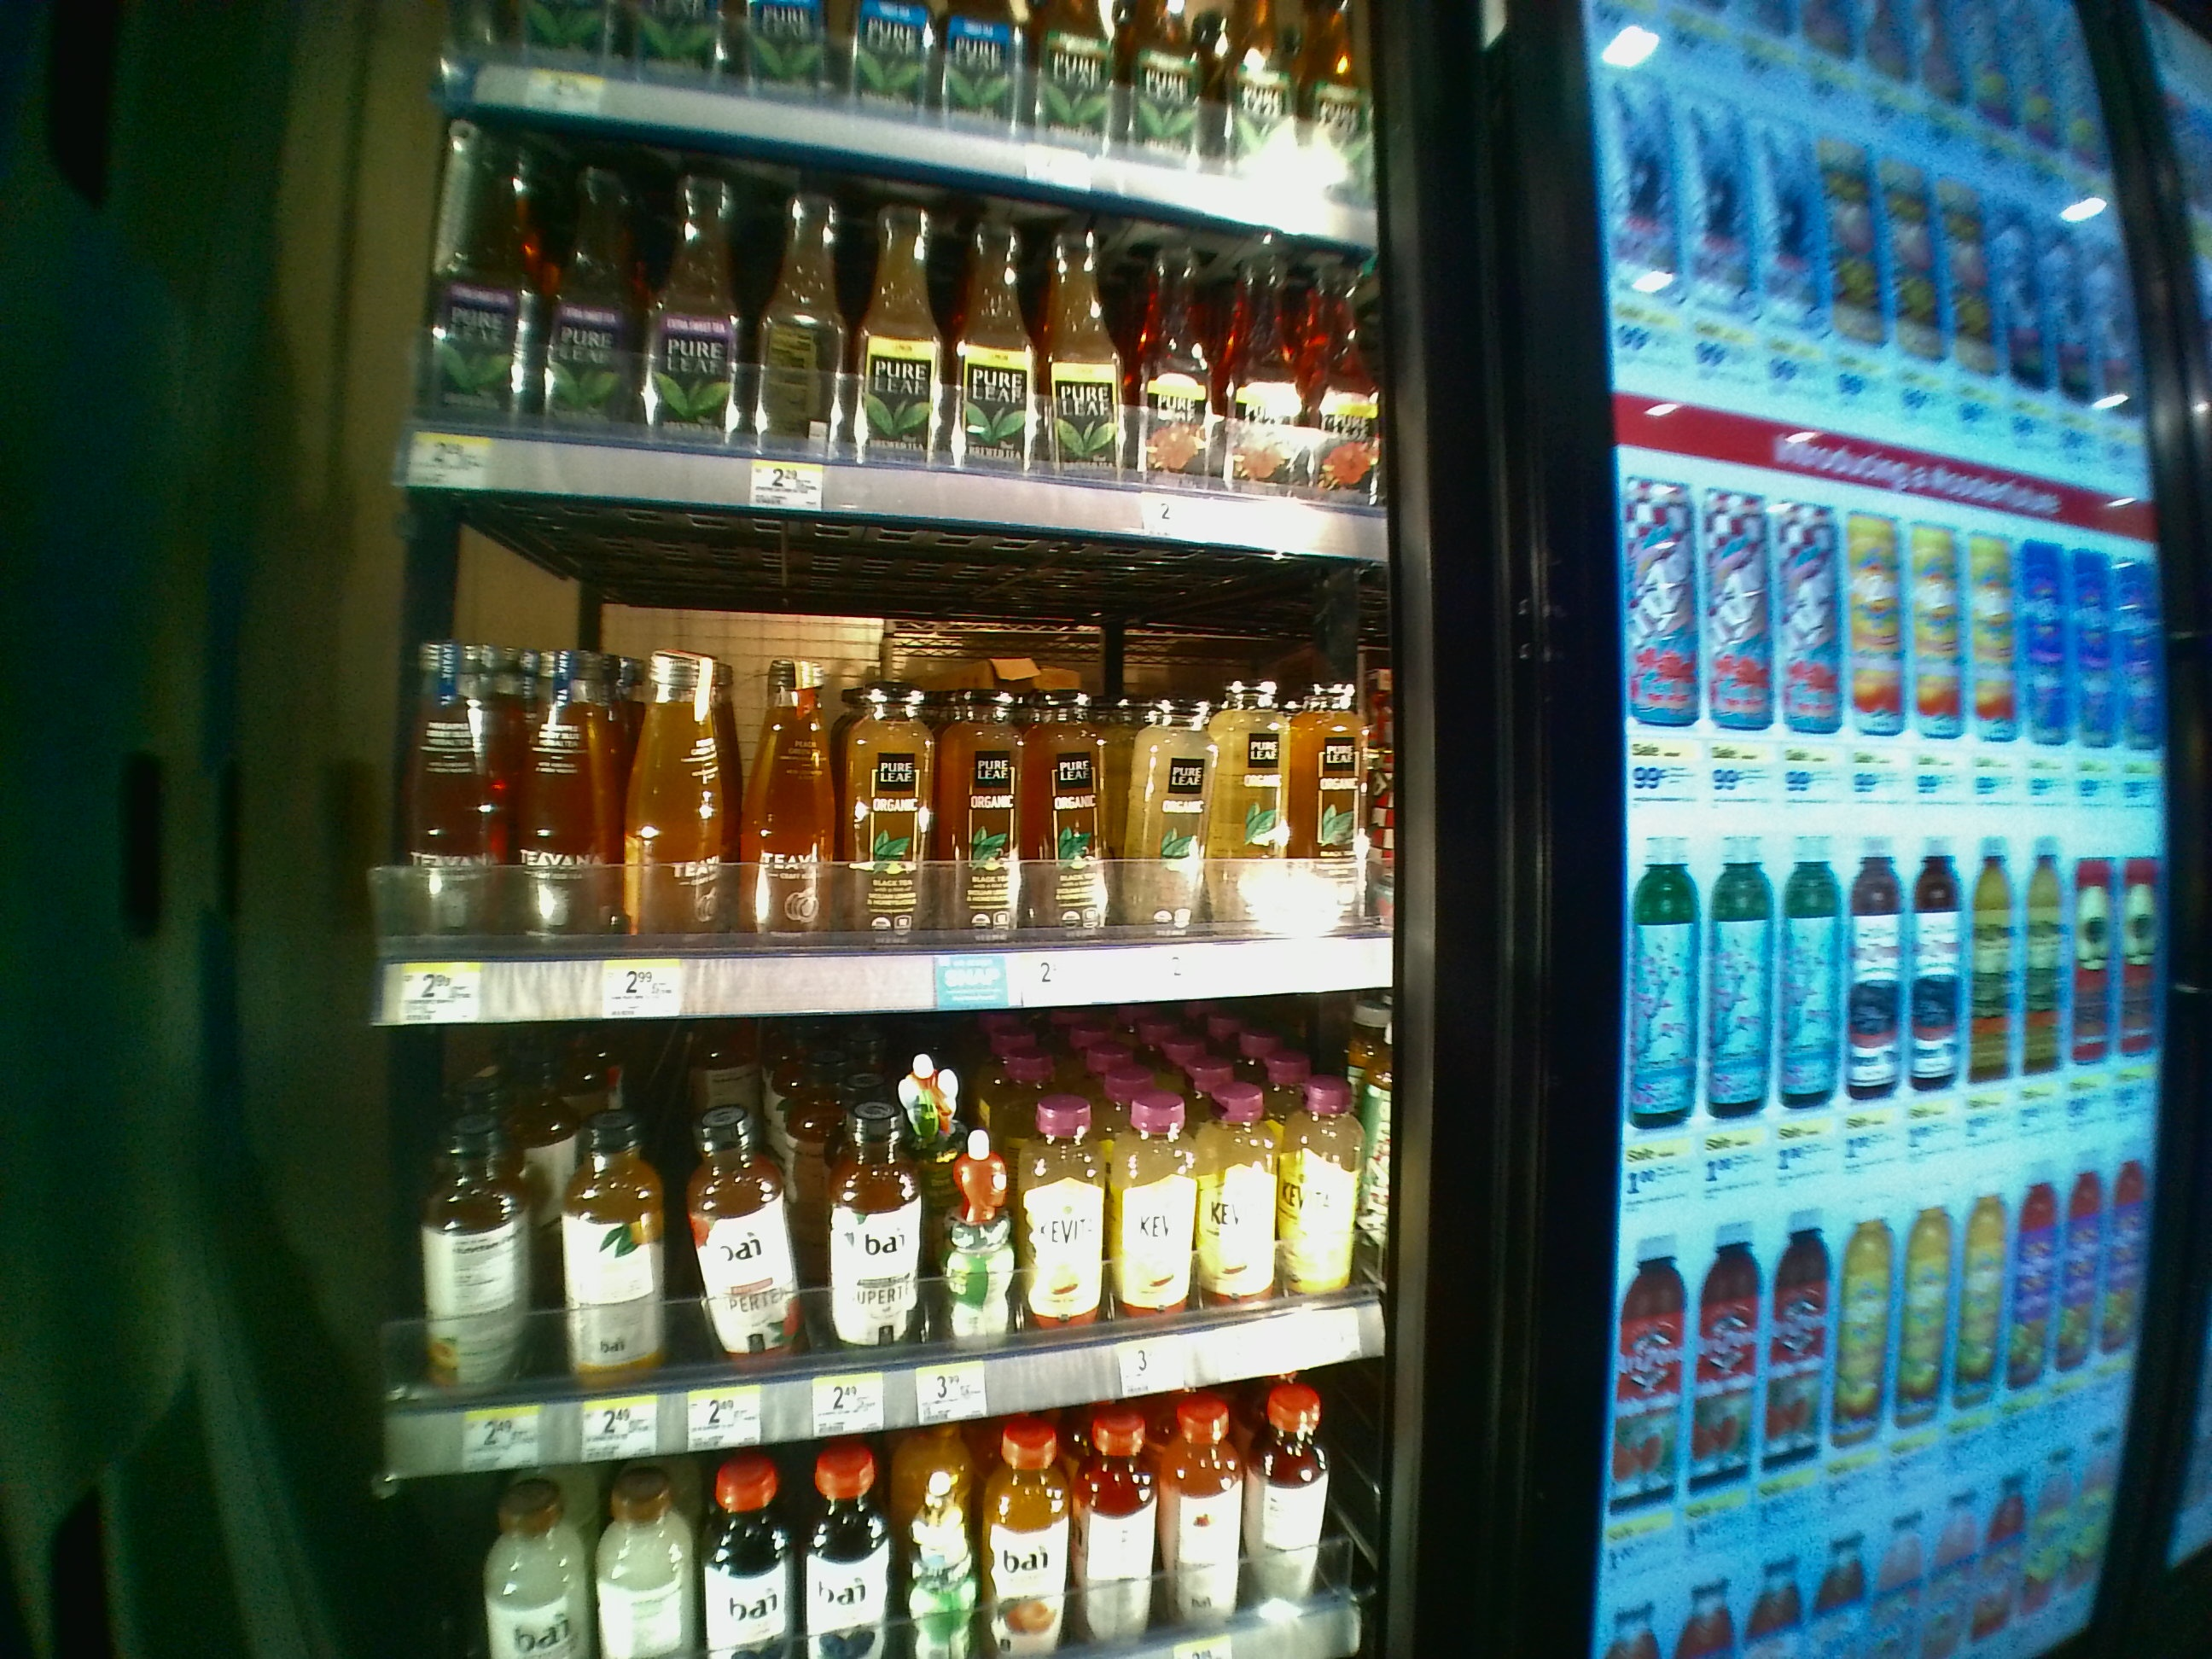shelf: (371, 502, 1400, 1025), (380, 1042, 1406, 1471)
